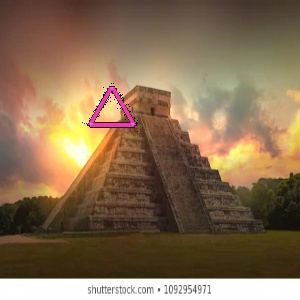triangle: (85, 81, 138, 131)
